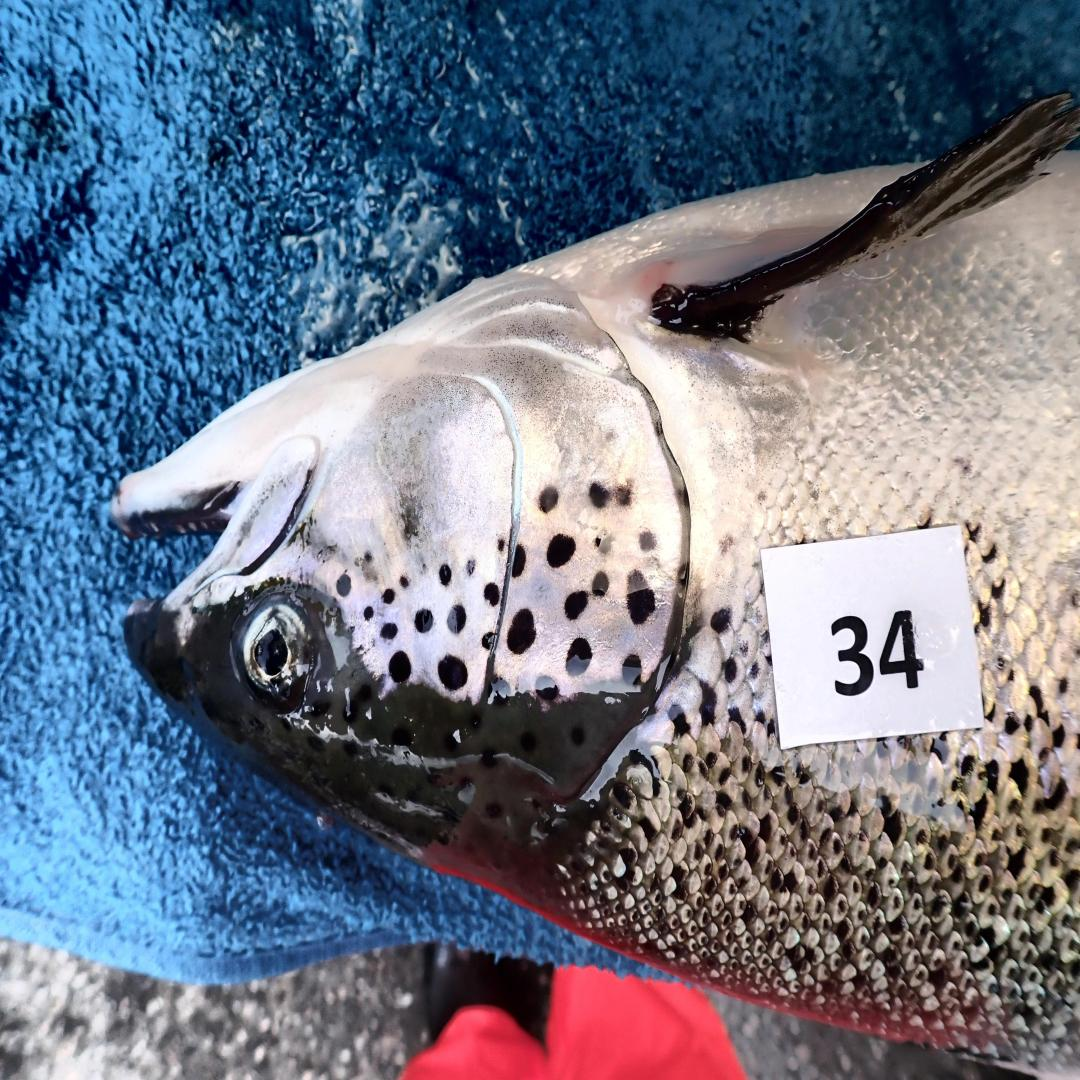spot: (626, 571, 656, 624), (506, 608, 536, 655), (439, 655, 468, 692), (565, 638, 593, 675), (546, 534, 576, 568), (388, 650, 411, 683), (565, 591, 589, 619), (536, 675, 559, 703), (589, 481, 612, 509), (622, 655, 641, 686), (413, 608, 435, 633), (447, 605, 466, 633), (538, 487, 559, 512), (513, 546, 527, 577), (593, 571, 610, 596), (490, 676, 510, 697), (639, 529, 658, 551), (614, 483, 632, 506), (483, 582, 500, 605), (335, 574, 352, 596), (380, 622, 399, 641), (439, 562, 451, 585), (595, 535, 610, 553), (481, 633, 496, 650), (466, 557, 477, 577), (382, 588, 394, 605), (679, 563, 688, 585), (363, 605, 373, 622), (399, 574, 409, 588), (497, 538, 505, 552), (363, 552, 372, 563)
